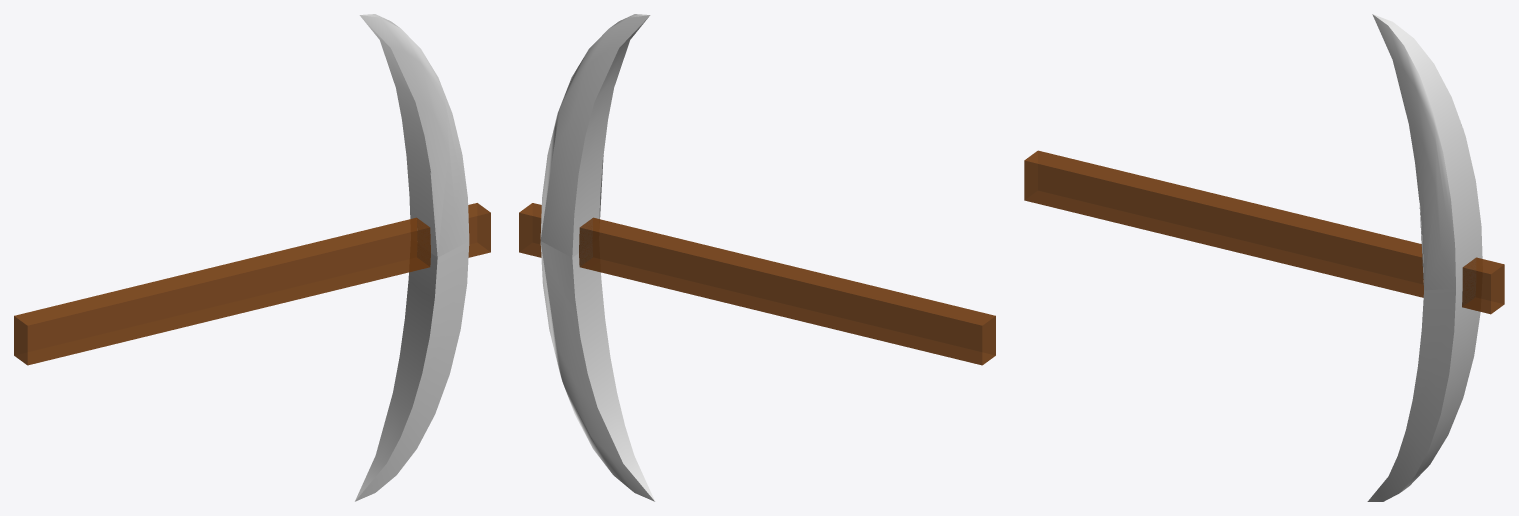
File: pick2.FBX
The picture shows the model from 3 angles, left to right: view 1: azimuth 30°, elevation 25°; view 2: azimuth 150°, elevation 25°; view 3: azimuth 330°, elevation 25°; orthographic projection.
Parts seen in each view (by area): view 1: 物件_5, 物件_3, 物件_4, 物件_1; view 2: 物件_5, 物件_3, 物件_4, 物件_1; view 3: 物件_5, 物件_3, 物件_4, 物件_1.
Boxes of the visible parts, x1,y1,x2,y2 form: 物件_5: [355, 14, 469, 501]; 物件_3: [14, 217, 430, 365]; 物件_4: [468, 203, 490, 257]; 物件_1: [417, 218, 430, 266]; 物件_5: [540, 14, 654, 501]; 物件_3: [579, 217, 995, 365]; 物件_4: [519, 203, 541, 257]; 物件_1: [579, 218, 592, 266]; 物件_5: [1367, 14, 1482, 501]; 物件_3: [1024, 150, 1423, 297]; 物件_4: [1462, 257, 1504, 314]; 物件_1: [1462, 258, 1475, 306].
Bounding box in the file's own units: 4.74 × 4.75 × 0.4826.
